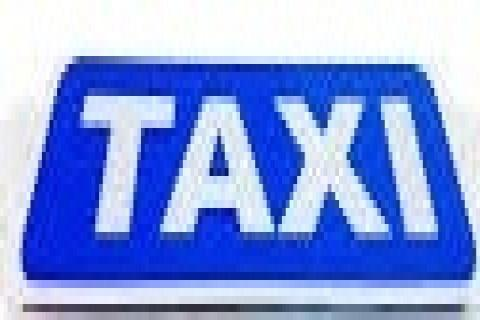LicensePlate: (23, 54, 480, 294)
